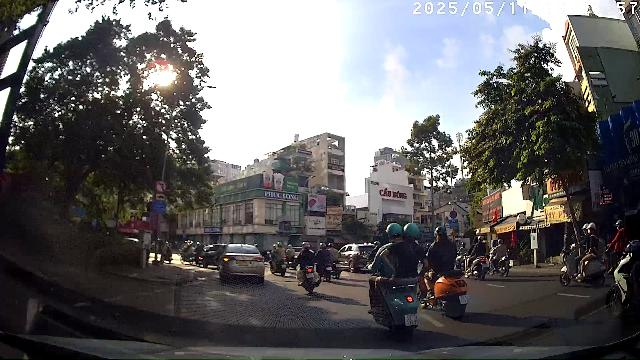123a-cam-re-trai: (155, 181, 167, 193)
